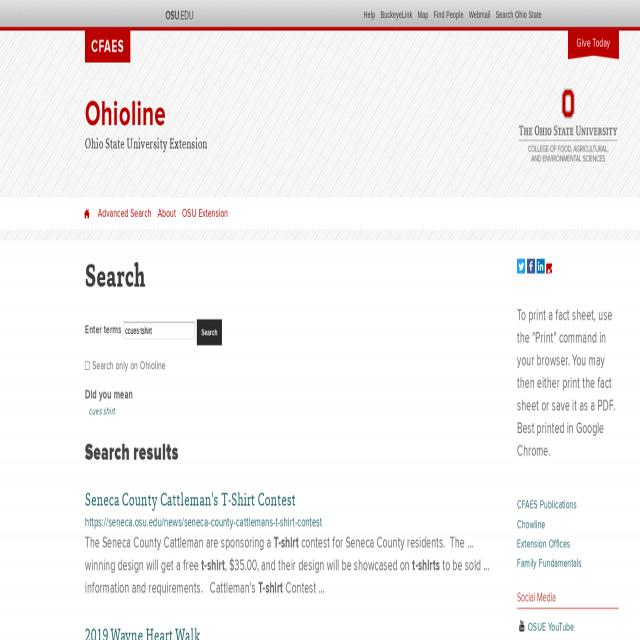button: (568, 28, 618, 61), (85, 31, 131, 64), (196, 320, 222, 344), (517, 259, 525, 274), (527, 259, 535, 274), (537, 259, 545, 274), (84, 208, 90, 220)
field: (124, 322, 194, 339), (85, 362, 91, 372)
